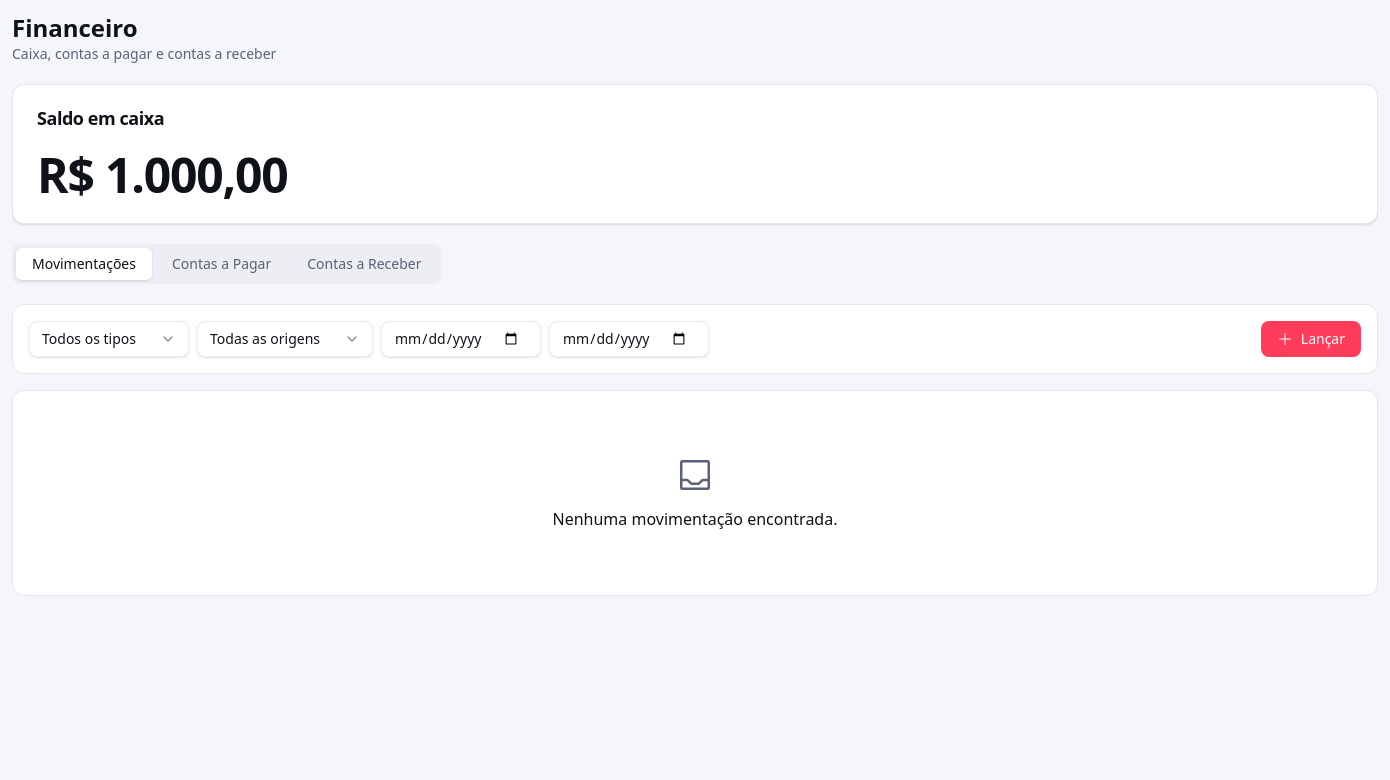
Test: Financeiro — Movimentações: estados e status semântico (PR 5) › mostra Badge de status semântico na aba Contas a Pagar (pendente=warning, pago=success)
Click the button "Contas a Pagar". click: {"x": 222, "y": 264}
box: [156,248,287,280]
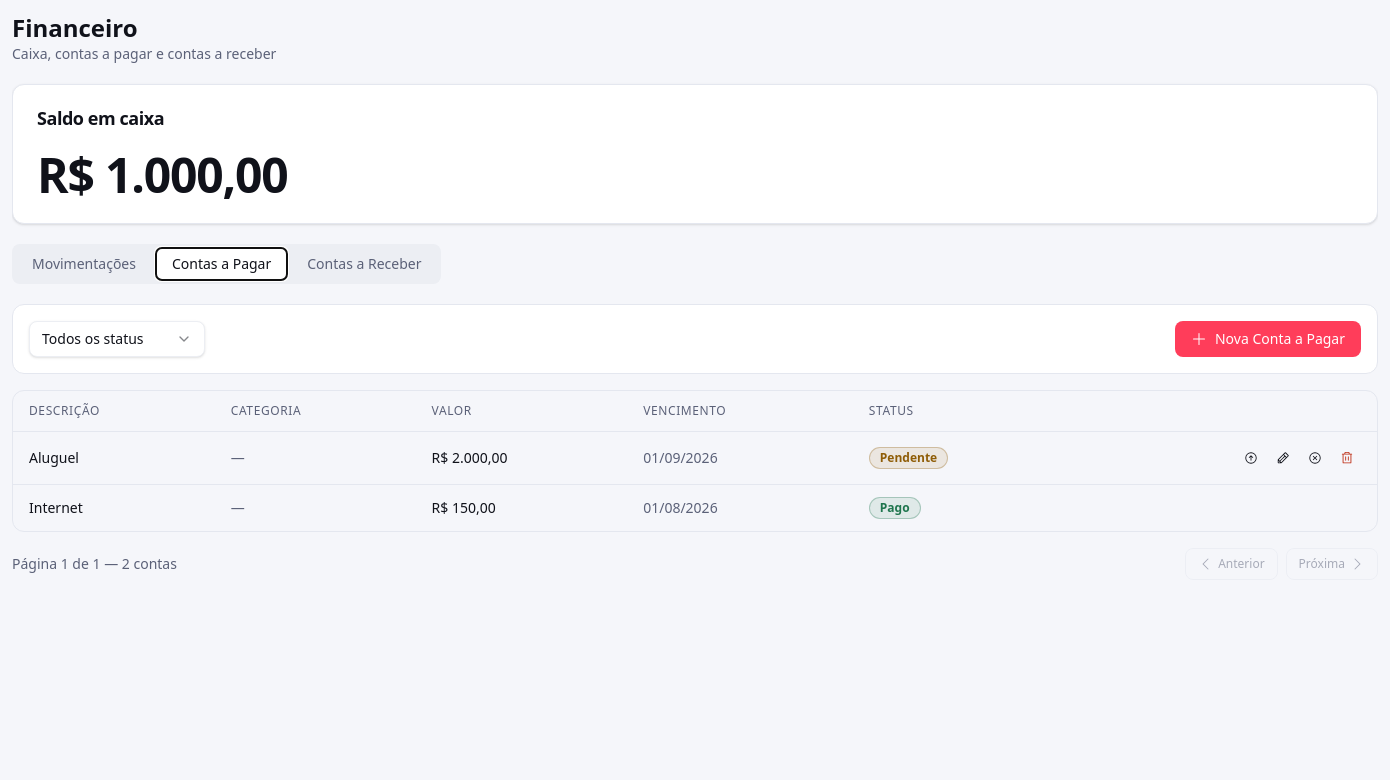
Expected: the text "Aluguel" is shown, [13,432,215,484]
